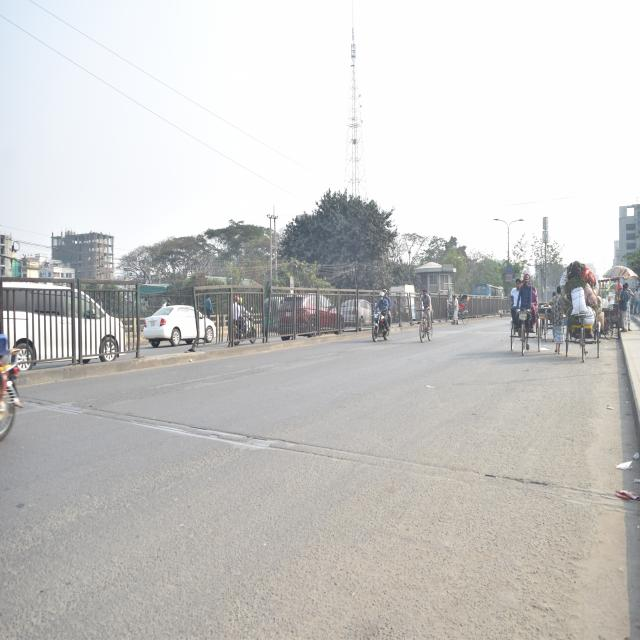car: (142, 298, 213, 352)
motorbike: (367, 302, 394, 349)
